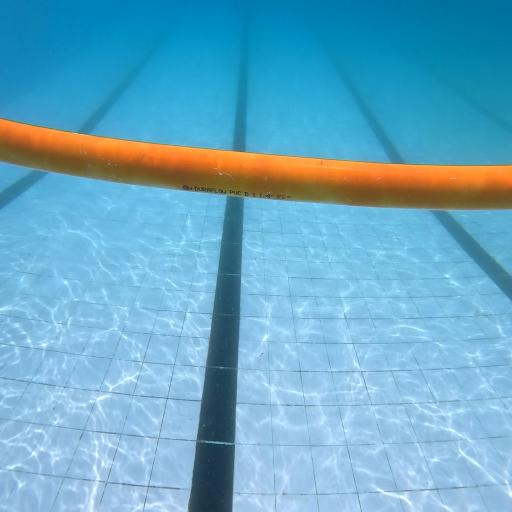upper_gate: (0, 119, 512, 210)
